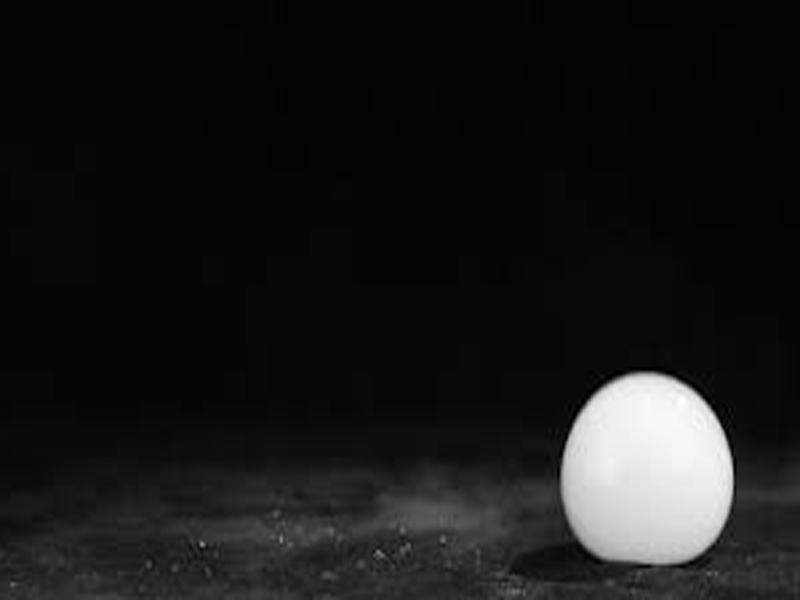Eggs: (559, 371, 732, 561)
